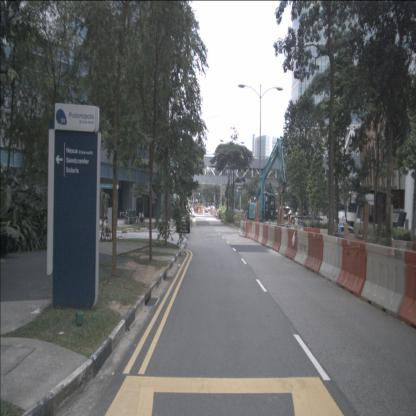human-pedestrian-adult: (139, 211, 142, 223), (142, 210, 145, 222)
movable_object-barrier: (361, 243, 408, 318), (337, 238, 368, 297), (399, 250, 416, 327), (319, 234, 344, 284), (305, 232, 323, 274), (294, 230, 308, 267), (285, 229, 297, 260), (278, 227, 288, 256), (272, 226, 283, 252), (304, 227, 321, 242), (266, 225, 276, 248), (320, 229, 331, 245), (244, 221, 253, 238), (261, 225, 268, 246), (258, 223, 264, 244), (239, 220, 246, 236), (250, 222, 256, 239), (254, 223, 259, 241)
movable_object-trafficcone: (127, 217, 130, 225), (136, 216, 139, 224), (118, 212, 121, 220)
vehicle-bicycle: (100, 216, 111, 242)
vehicle-car: (329, 223, 358, 248), (176, 210, 190, 233), (291, 219, 309, 235)
